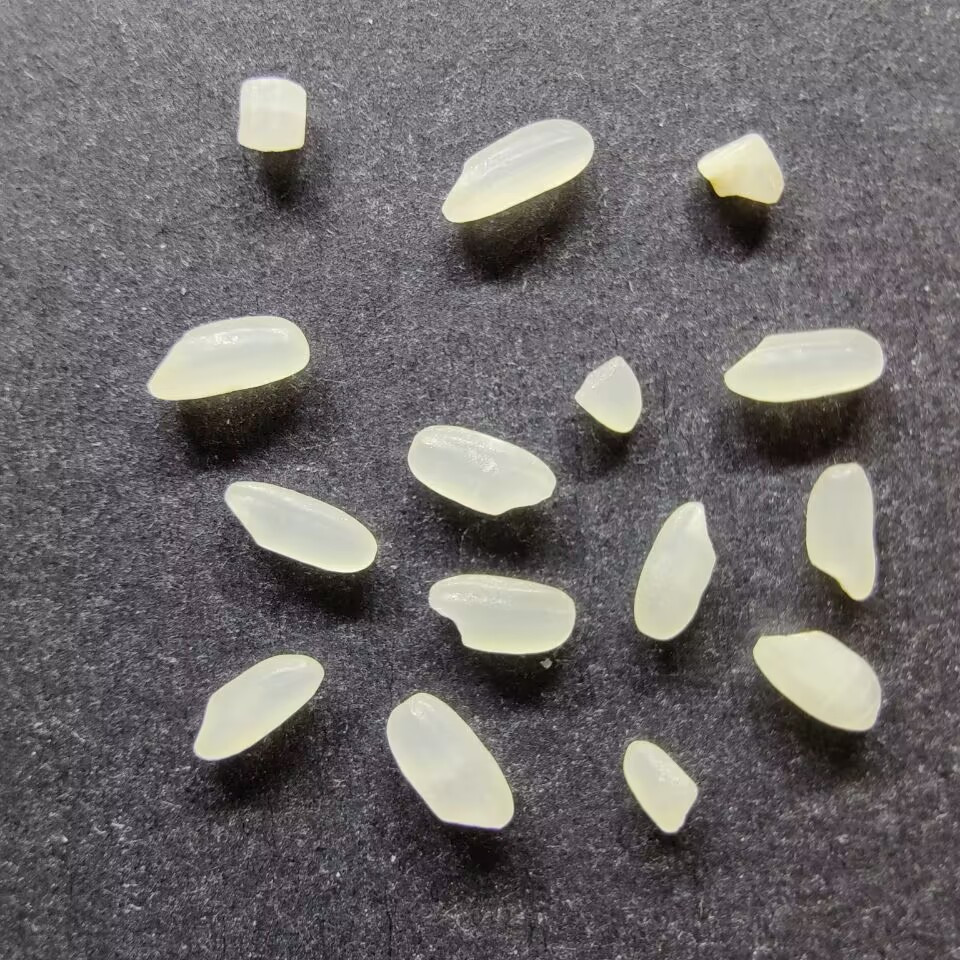broken: (622, 739, 698, 833), (696, 132, 785, 205), (235, 77, 308, 152), (573, 356, 643, 433)
rice: (385, 692, 514, 830), (441, 118, 592, 223), (223, 480, 376, 572), (191, 653, 321, 761), (146, 314, 309, 400), (406, 424, 556, 516), (752, 630, 880, 733), (427, 574, 576, 655), (723, 328, 884, 402), (632, 501, 715, 640), (804, 463, 877, 601)
